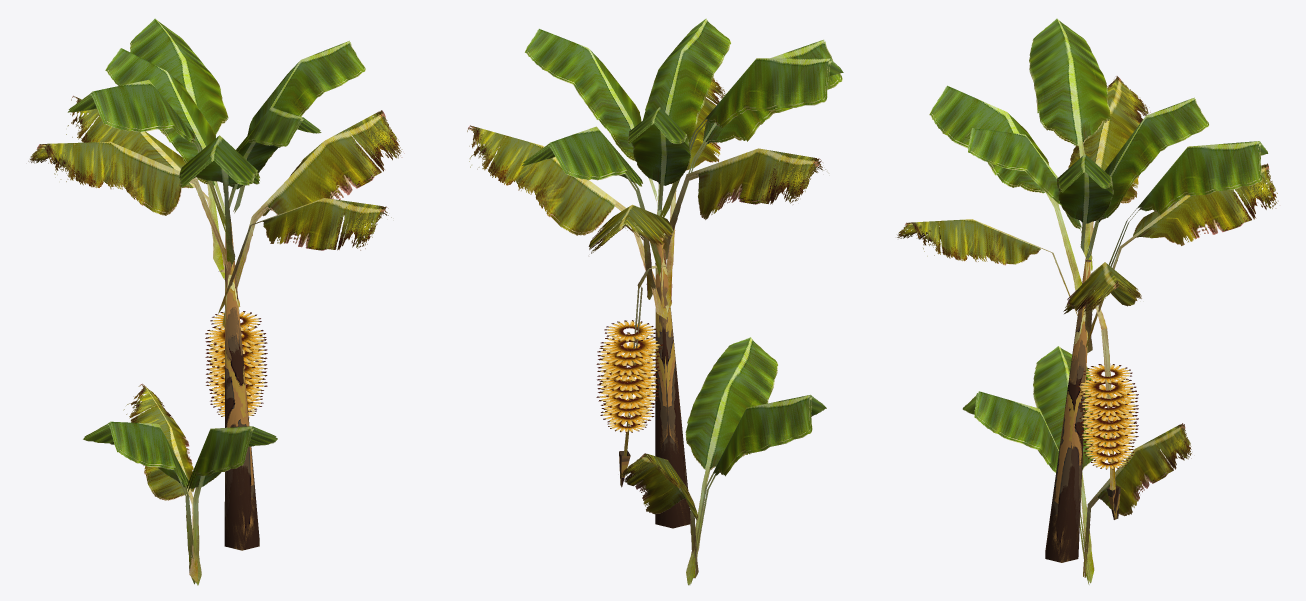
The model's file is banana_1.glb.
3 views of the same model, side by side, from view 1: azimuth 30°, elevation 25°; view 2: azimuth 150°, elevation 25°; view 3: azimuth 270°, elevation 25° (orthographic). The views are drawn at different scales.
Visible parts, largest first — view 1: banana_1; view 2: banana_1; view 3: banana_1.
Boxes of the visible parts, <box> form: banana_1: <box>28,18,404,585</box>; banana_1: <box>467,18,843,585</box>; banana_1: <box>897,18,1278,584</box>.
Bounding box in the file's own units: 5.43 × 7.49 × 5.42.
1 material, 1 textured.
